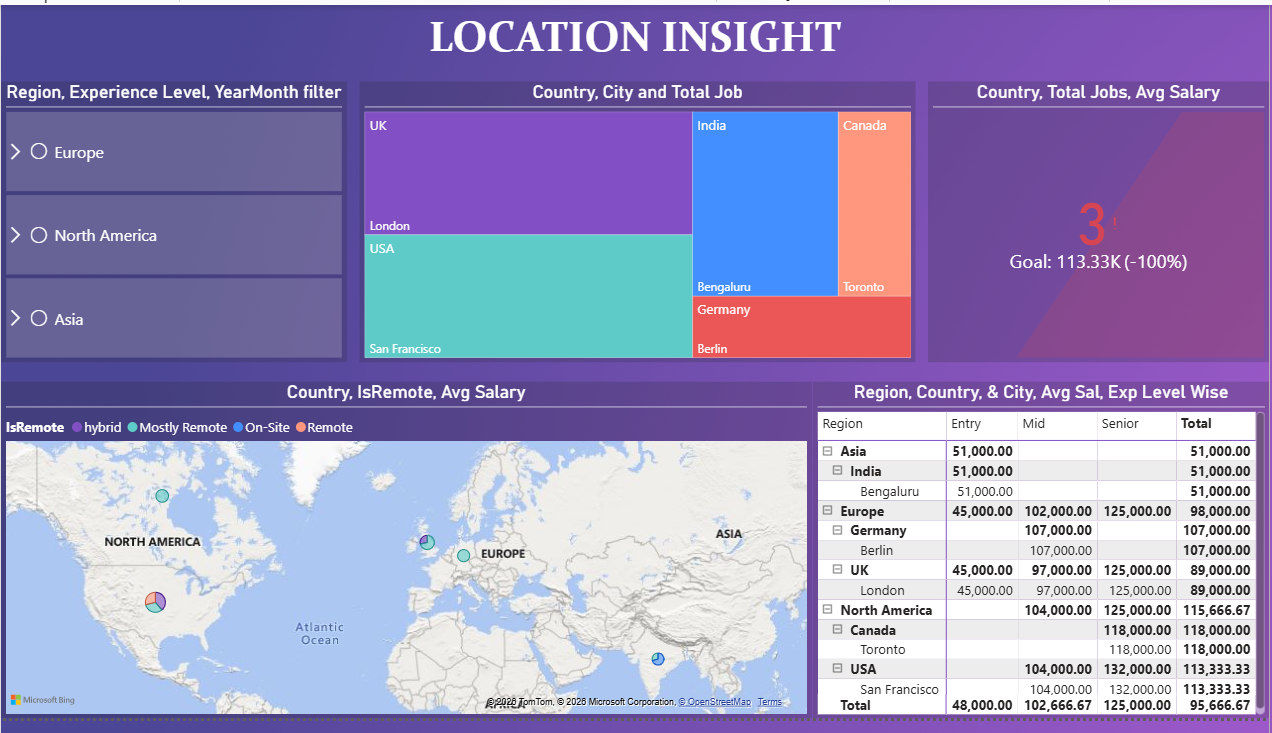

The page's visual inventory and layout, read from the dashboard file:
{"tool":"powerbi","page":{"name":"Location Insight","canvas":[1280,720],"ordinal":1},"visuals":[{"type":"textbox","box":[0,0,1280,76.9],"z":0},{"type":"listSlicer","title":"Region, Experience Level, YearMonth filter","fields":{"Values":["Dim_Locations.Region","Fact_Jobs.Experience_Level","Dim_Date.YearMonth"]},"box":[0,76.9,349.2,283.1],"z":1000},{"type":"map","title":"Country, IsRemote, Avg Salary","fields":{"Category":["Dim_Locations.Country"],"Size":["Fact_Jobs.AvgSalarybycountry"],"Series":["Fact_Jobs.IsRemote"]},"box":[0,380,818.5,340],"z":2000},{"type":"kpi","title":"Country, Total Jobs, Avg Salary","fields":{"Goal":["Fact_Jobs.AvgSalarybycountry"],"Indicator":["Fact_Jobs.TotalJobs"],"TrendLine":["Dim_Locations.Country"]},"box":[935.4,76.9,344.6,283.1],"z":3000},{"type":"treemap","title":"Country, City and Total Job","fields":{"Values":["Fact_Jobs.TotalJobs"],"Group":["Dim_Locations.Country"],"Details":["Dim_Locations.City"]},"box":[361.5,76.9,561.5,283.1],"z":4000},{"type":"pivotTable","title":"Region, Country, & City, Avg Sal, Exp Level Wise","fields":{"Values":["Fact_Jobs.AvgSalarybycountry"],"Rows":["Dim_Locations.Region","Dim_Locations.Country","Dim_Locations.City"],"Columns":["Fact_Jobs.Experience_Level"]},"box":[818.5,380,461.5,340],"z":5000}]}

Visuals, with their boxes in screenshot pixels (x1, y1, x2, y2), scaled from the page's 1280x720 canvas onto the 1272x733 screenshot:
textbox: 0 0 1271 78
"Region, Experience Level, YearMonth filter" listSlicer: 0 78 347 366
"Country, IsRemote, Avg Salary" map: 0 387 813 732
"Country, Total Jobs, Avg Salary" kpi: 930 78 1271 366
"Country, City and Total Job" treemap: 359 78 917 366
"Region, Country, & City, Avg Sal, Exp Level Wise" pivotTable: 813 387 1271 732
